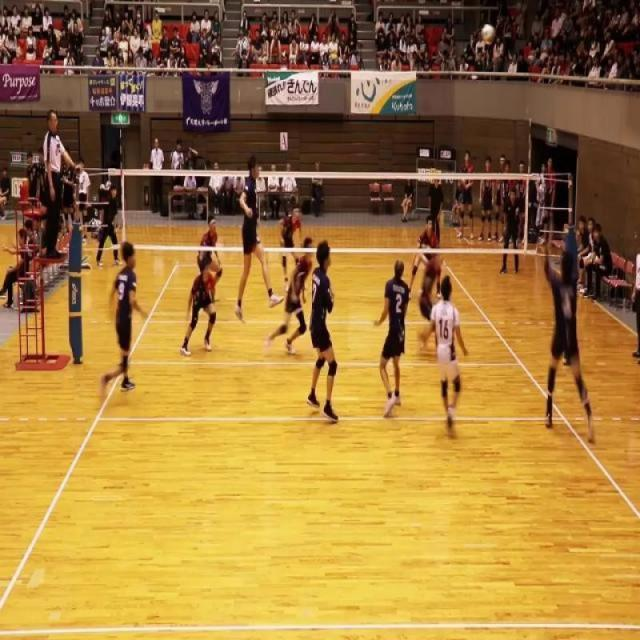volleyball: (480, 22, 496, 44)
